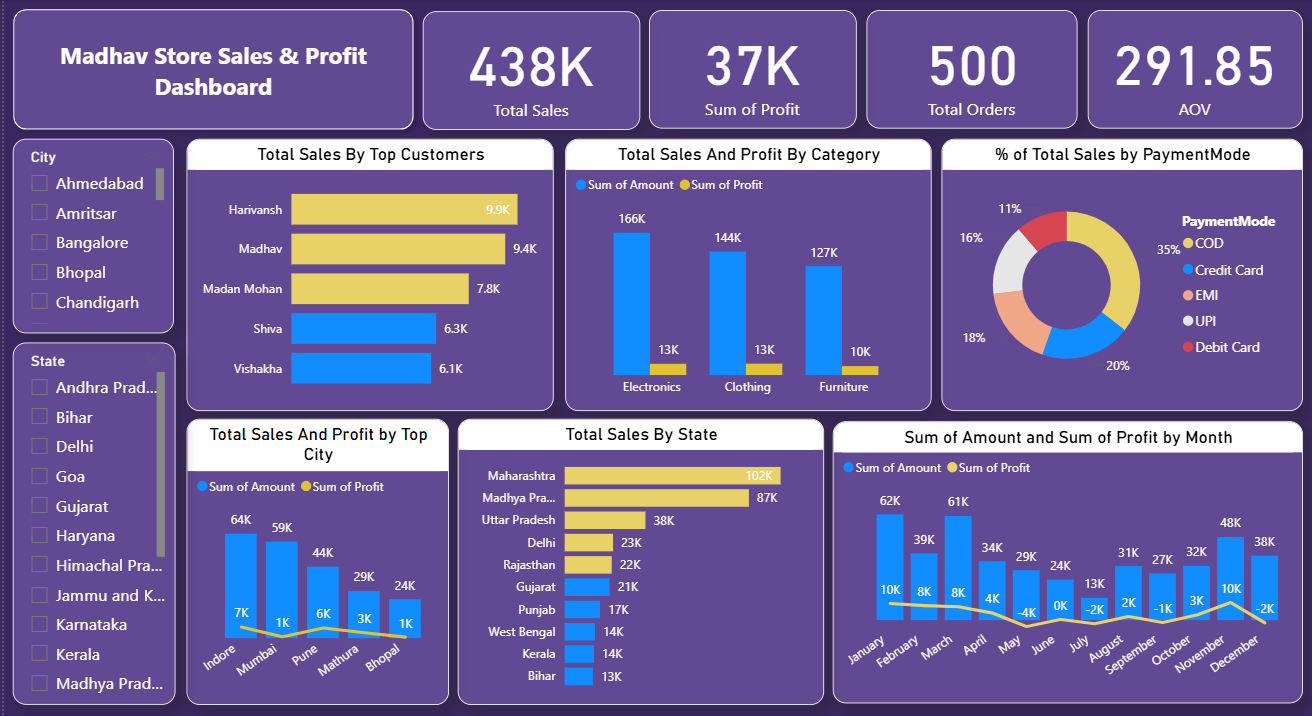

What the dashboard file says about the page in this screenshot:
{"tool":"powerbi","page":{"name":"Page 1","canvas":[1280,720],"ordinal":0},"visuals":[{"type":"card","title":"Total Sales","fields":{"Values":["Details.Amount"]},"box":[409.6,11,212.8,116.2],"z":0},{"type":"card","fields":{"Values":["Details.Profit"]},"box":[631,9.8,203,116.2],"z":1000},{"type":"card","fields":{"Values":["Orders.Order ID"]},"box":[843.8,9.8,206.7,116.2],"z":2000},{"type":"card","fields":{"Values":["Details.Amount"]},"box":[1060.2,9.8,210.3,116.2],"z":3000},{"type":"shape","box":[0,0,409.6,135.7],"z":4000},{"type":"clusteredBarChart","title":"Total Sales By Top Customers","fields":{"Category":["Orders.CustomerName"],"Y":["Details.Amount"]},"box":[178.5,135.7,359.5,266.6],"z":5000},{"type":"clusteredColumnChart","title":"Total Sales And Profit By Category","fields":{"Category":["Details.Category"],"Y":["Details.Amount","Details.Profit"]},"box":[549.1,135.7,358.3,266.6],"z":6000},{"type":"lineStackedColumnComboChart","title":"Total Sales And Profit by Top City","fields":{"Category":["Orders.City"],"Y":["Details.Amount"],"Y2":["Details.Profit"]},"box":[178.5,409.6,256.8,280],"z":7000},{"type":"donutChart","title":"% of Total Sales by PaymentMode","fields":{"Category":["Details.PaymentMode"],"Y":["Details.Amount"]},"box":[917.1,135.7,353.4,266.6],"z":8000},{"type":"clusteredBarChart","title":"Total Sales By State","fields":{"Category":["Orders.State"],"Y":["Details.Amount"]},"box":[443.9,409.6,358.3,280],"z":9000},{"type":"lineStackedColumnComboChart","fields":{"Y":["Details.Amount"],"Y2":["Details.Profit"],"Category":["Orders.Order Date.Variation.Date Hierarchy.Month"]},"box":[810.7,412.1,459.8,276.4],"z":10000},{"type":"slicer","fields":{"Values":["Orders.City"]},"box":[8.6,135.7,157.7,190.8],"z":11000},{"type":"slicer","fields":{"Values":["Orders.State"]},"box":[8.6,335.1,159,354.6],"z":12000}]}

Visuals, with their boxes in screenshot pixels (x1, y1, x2, y2):
"Total Sales" card: 421/11/638/130
card - Details.Profit: 646/10/853/128
card - Orders.Order ID: 863/10/1074/128
card - Details.Amount: 1084/10/1298/128
shape: 3/0/421/138
"Total Sales By Top Customers" clusteredBarChart: 185/138/552/410
"Total Sales And Profit By Category" clusteredColumnChart: 563/138/928/410
"Total Sales And Profit by Top City" lineStackedColumnComboChart: 185/417/447/703
"% of Total Sales by PaymentMode" donutChart: 938/138/1298/410
"Total Sales By State" clusteredBarChart: 456/417/821/703
lineStackedColumnComboChart - Details.Amount x Details.Profit: 829/420/1298/701
slicer - Orders.City: 12/138/173/333
slicer - Orders.State: 12/341/174/703
